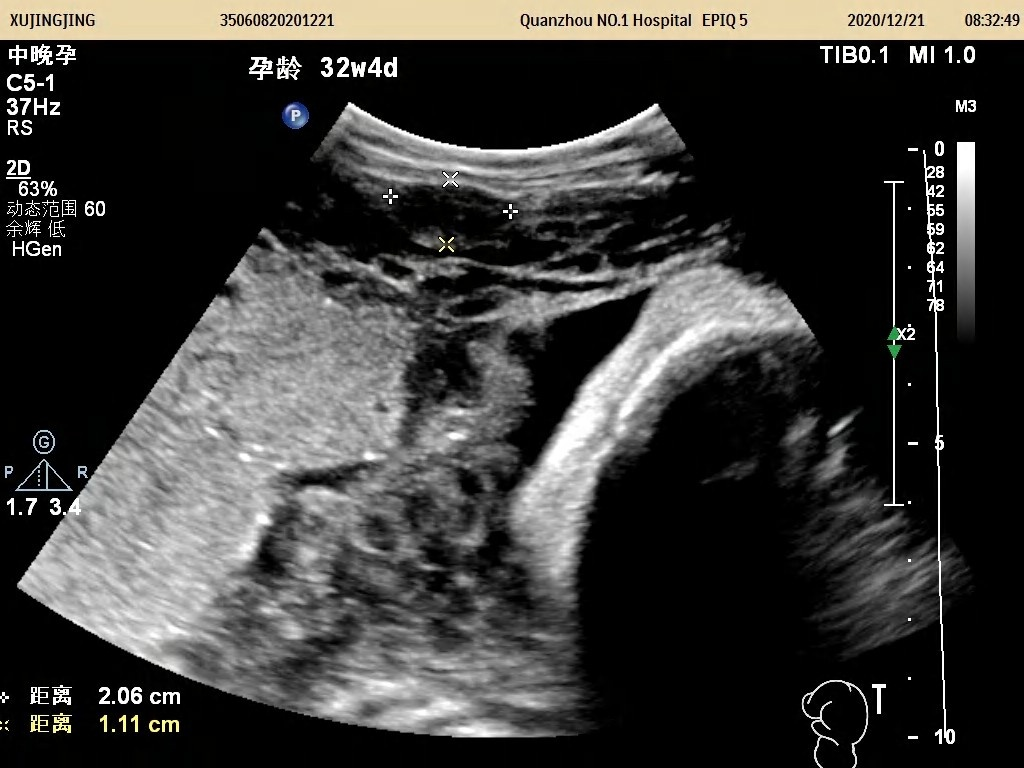肌瘤: (391, 181, 510, 244)
